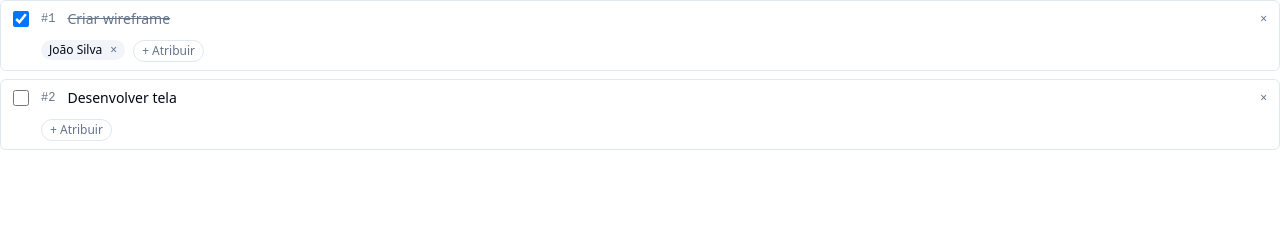
Test: StepList › asks for confirmation before deleting
The image size is (1280, 229).
Click the button named "deletar passo" at [1264, 19], box top-left (1260, 11), bottom-right (1267, 27)
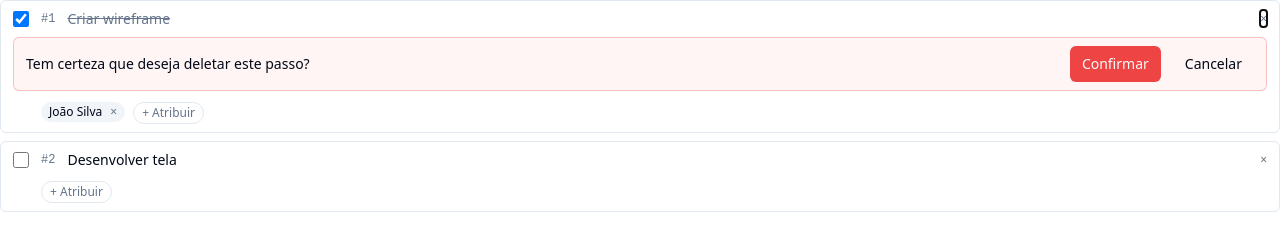
Expected: the text "Tem certeza que deseja deletar este passo?" is shown, top-left (26, 54), bottom-right (310, 73)
